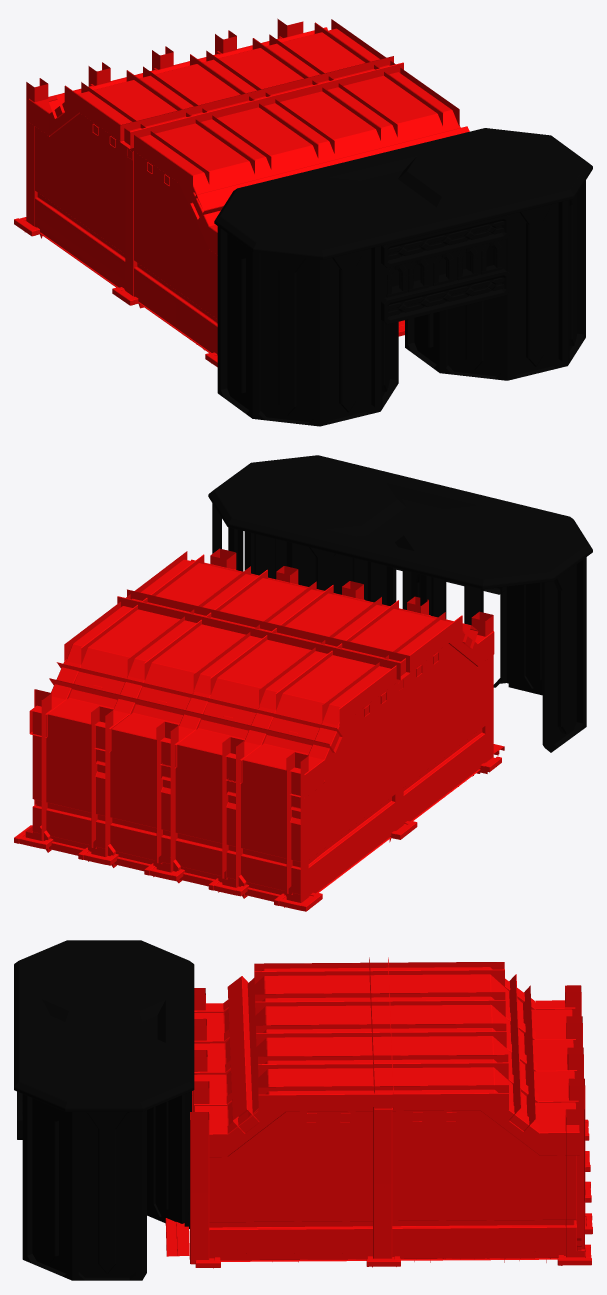
Rendered from Bar.fbx.
3 renders of one model, top to bottom at view 1: azimuth 30°, elevation 25°; view 2: azimuth 150°, elevation 25°; view 3: azimuth 270°, elevation 25°, orthographic.
Visible parts, largest first — view 1: polySurface18; view 2: polySurface18; view 3: polySurface18.
Boxes of the visible parts, box(x1,y1,x2,y2) form: polySurface18: box(14, 18, 592, 426); polySurface18: box(14, 455, 592, 911); polySurface18: box(14, 940, 592, 1280).
Size of the model in its own units: 5206 by 2680 by 7658.
